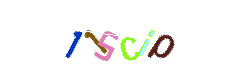1: (34, 0, 114, 80), (74, 0, 154, 80)
5: (74, 0, 154, 80)
C: (87, 0, 167, 80)
I: (91, 0, 171, 80)
P: (100, 0, 180, 80)
